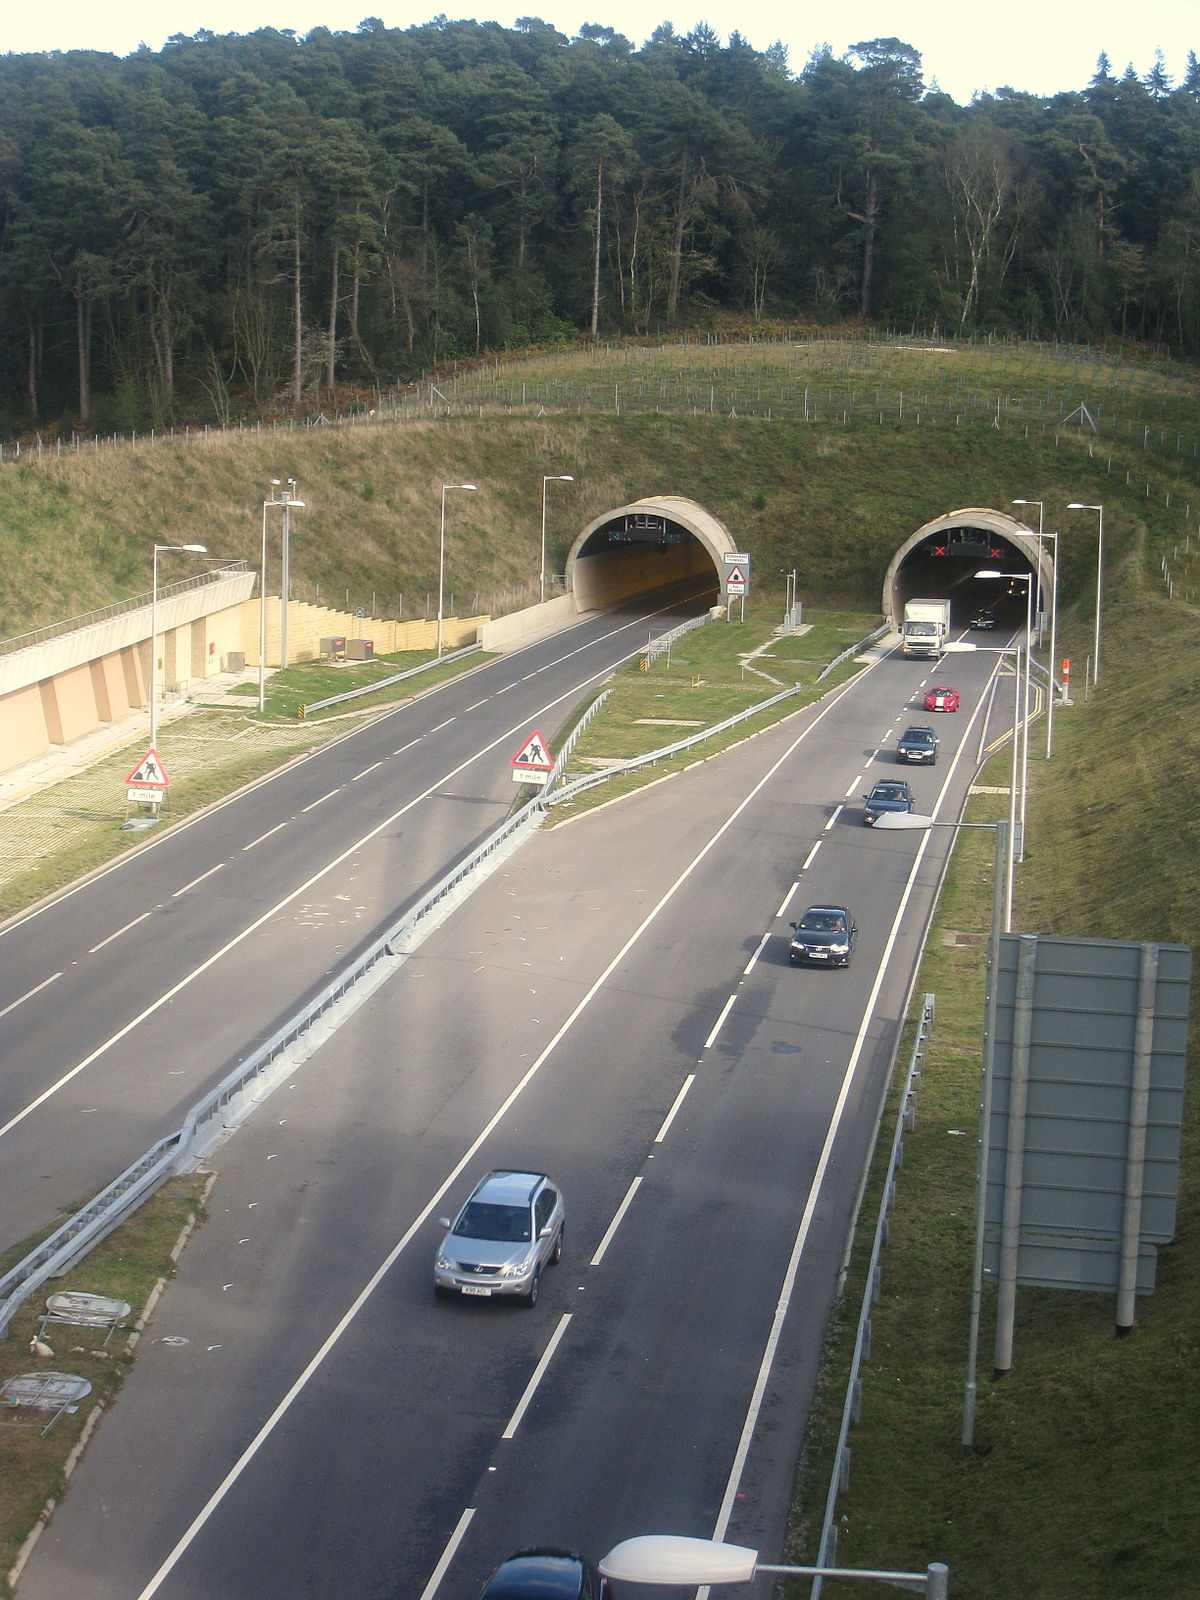bridge: (882, 518, 1047, 636), (562, 505, 735, 609)
